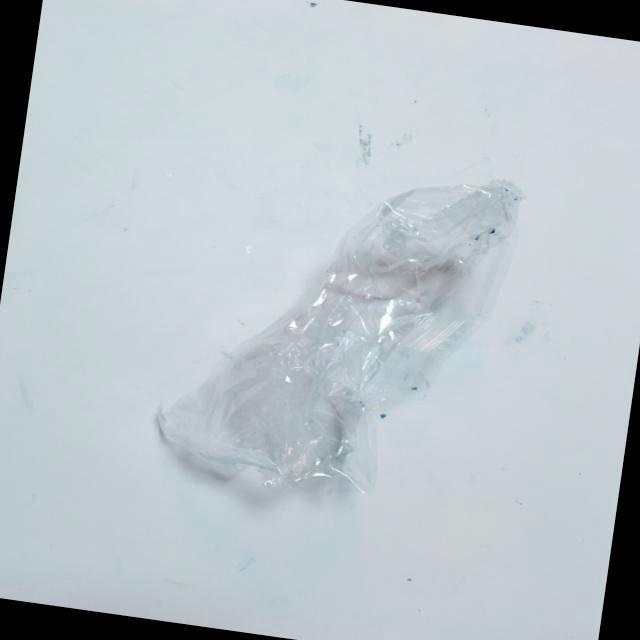plastic: (111, 98, 547, 556)
